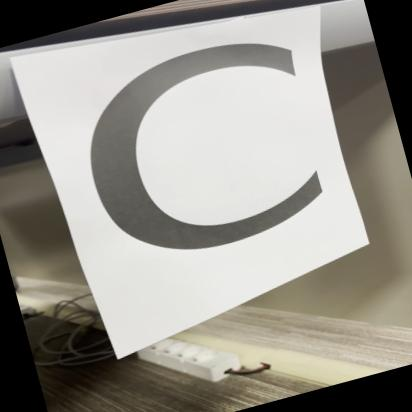seat: (41, 0, 355, 307)
